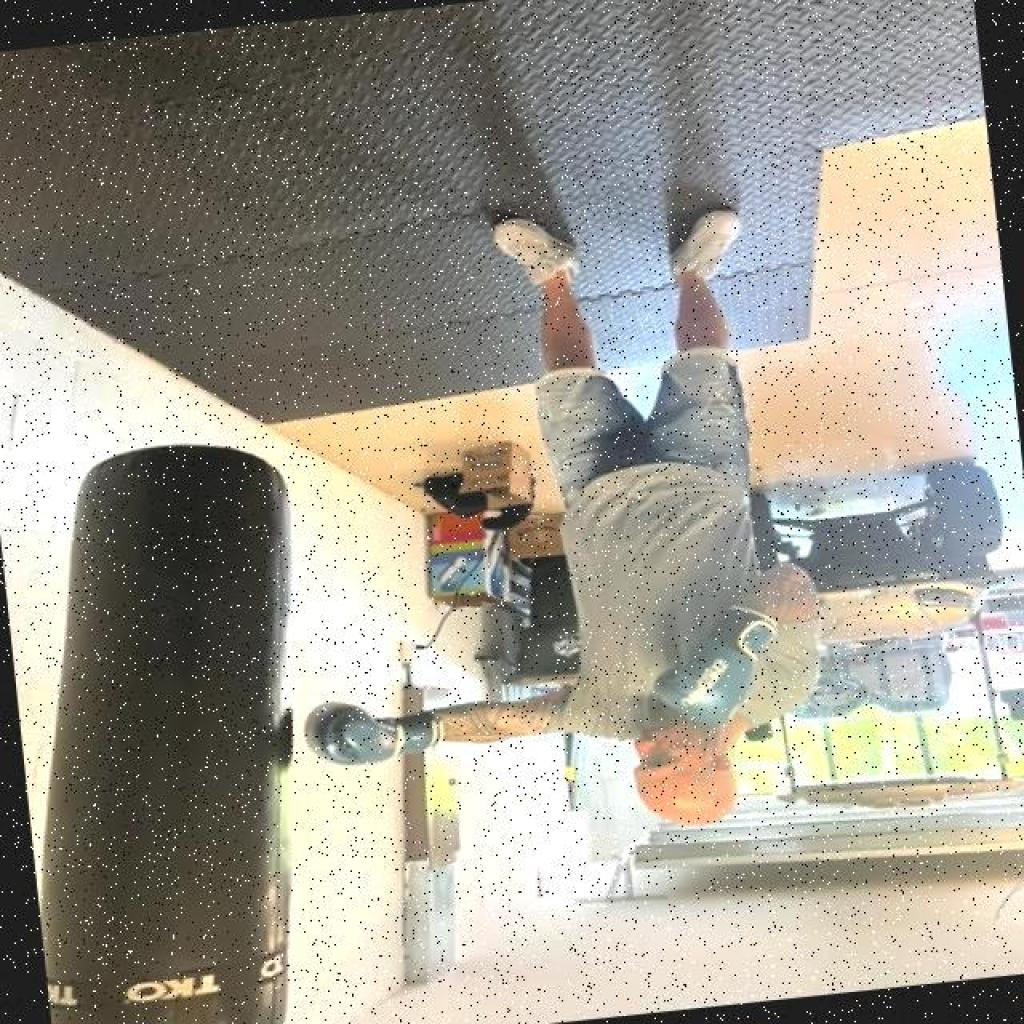jab: (274, 568, 835, 878)
